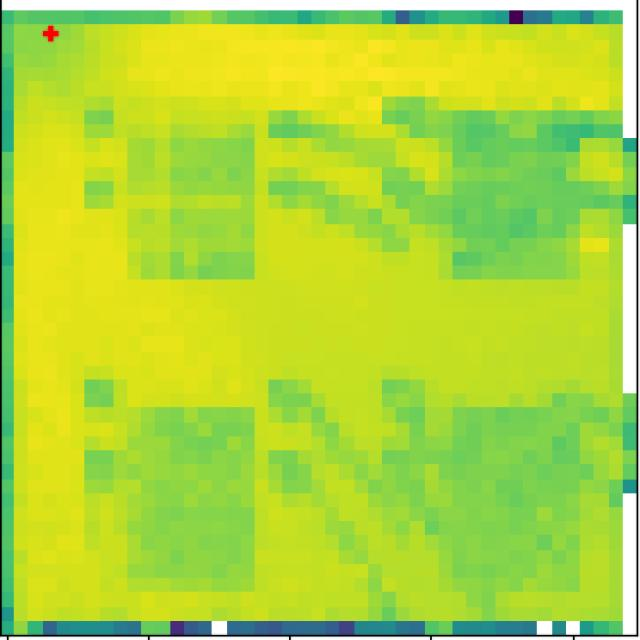Concrete: (122, 406, 259, 596)
Glass: (434, 408, 581, 596)
Metal: (124, 121, 258, 280)
Wood: (447, 109, 579, 282)
